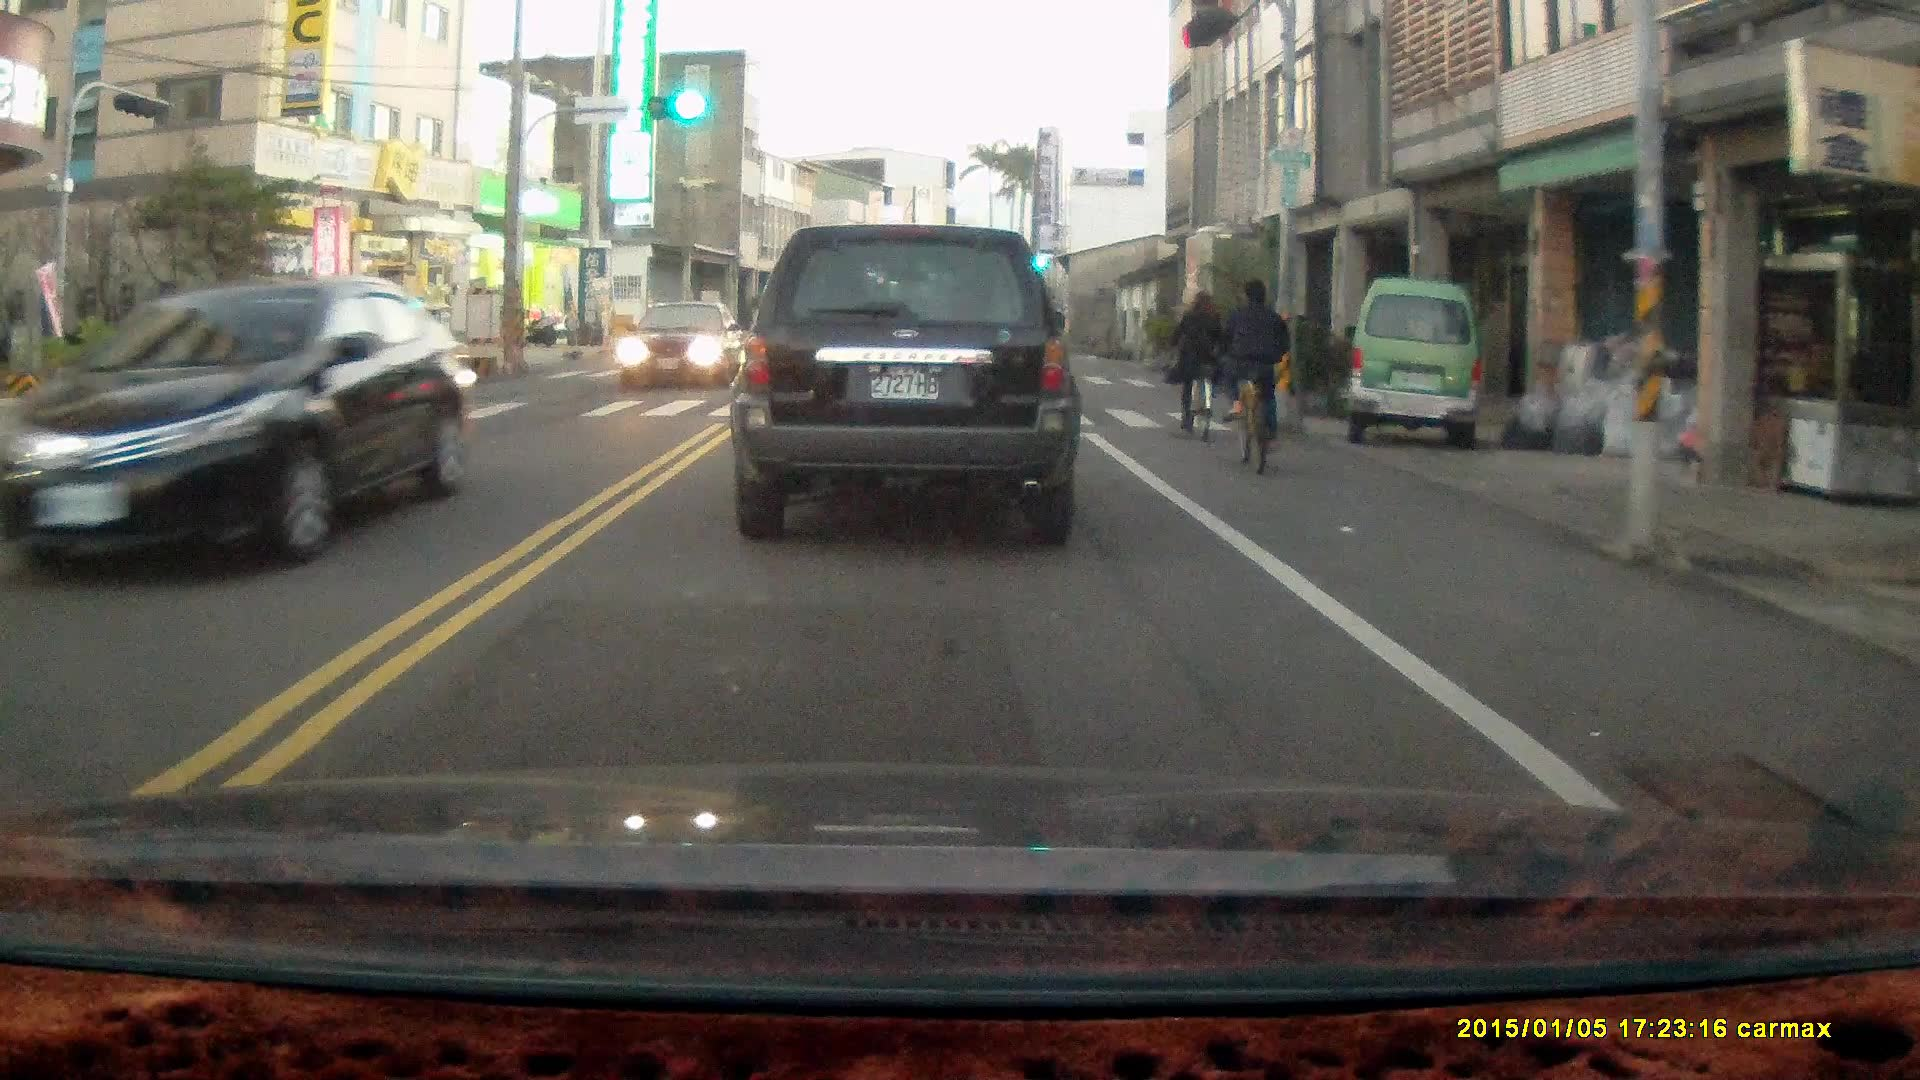rider: (1214, 274, 1292, 476), (1168, 287, 1227, 446)
vehicle: (1, 278, 476, 566), (741, 222, 1086, 540), (1341, 276, 1488, 454), (616, 303, 753, 397)
